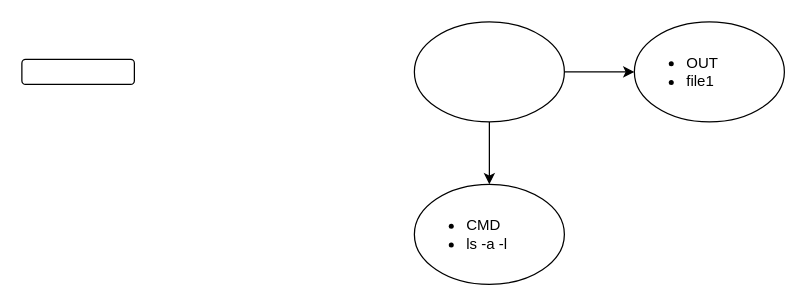
Image size: 806x306. Some labels were removed from this diagram. The shapes that lost their labels are listed below. From the top down, each one's centre as x and y in pixels, then its label:
At point (77, 71): "ls -a -l >file1".
At point (488, 71): "REDIRS".
